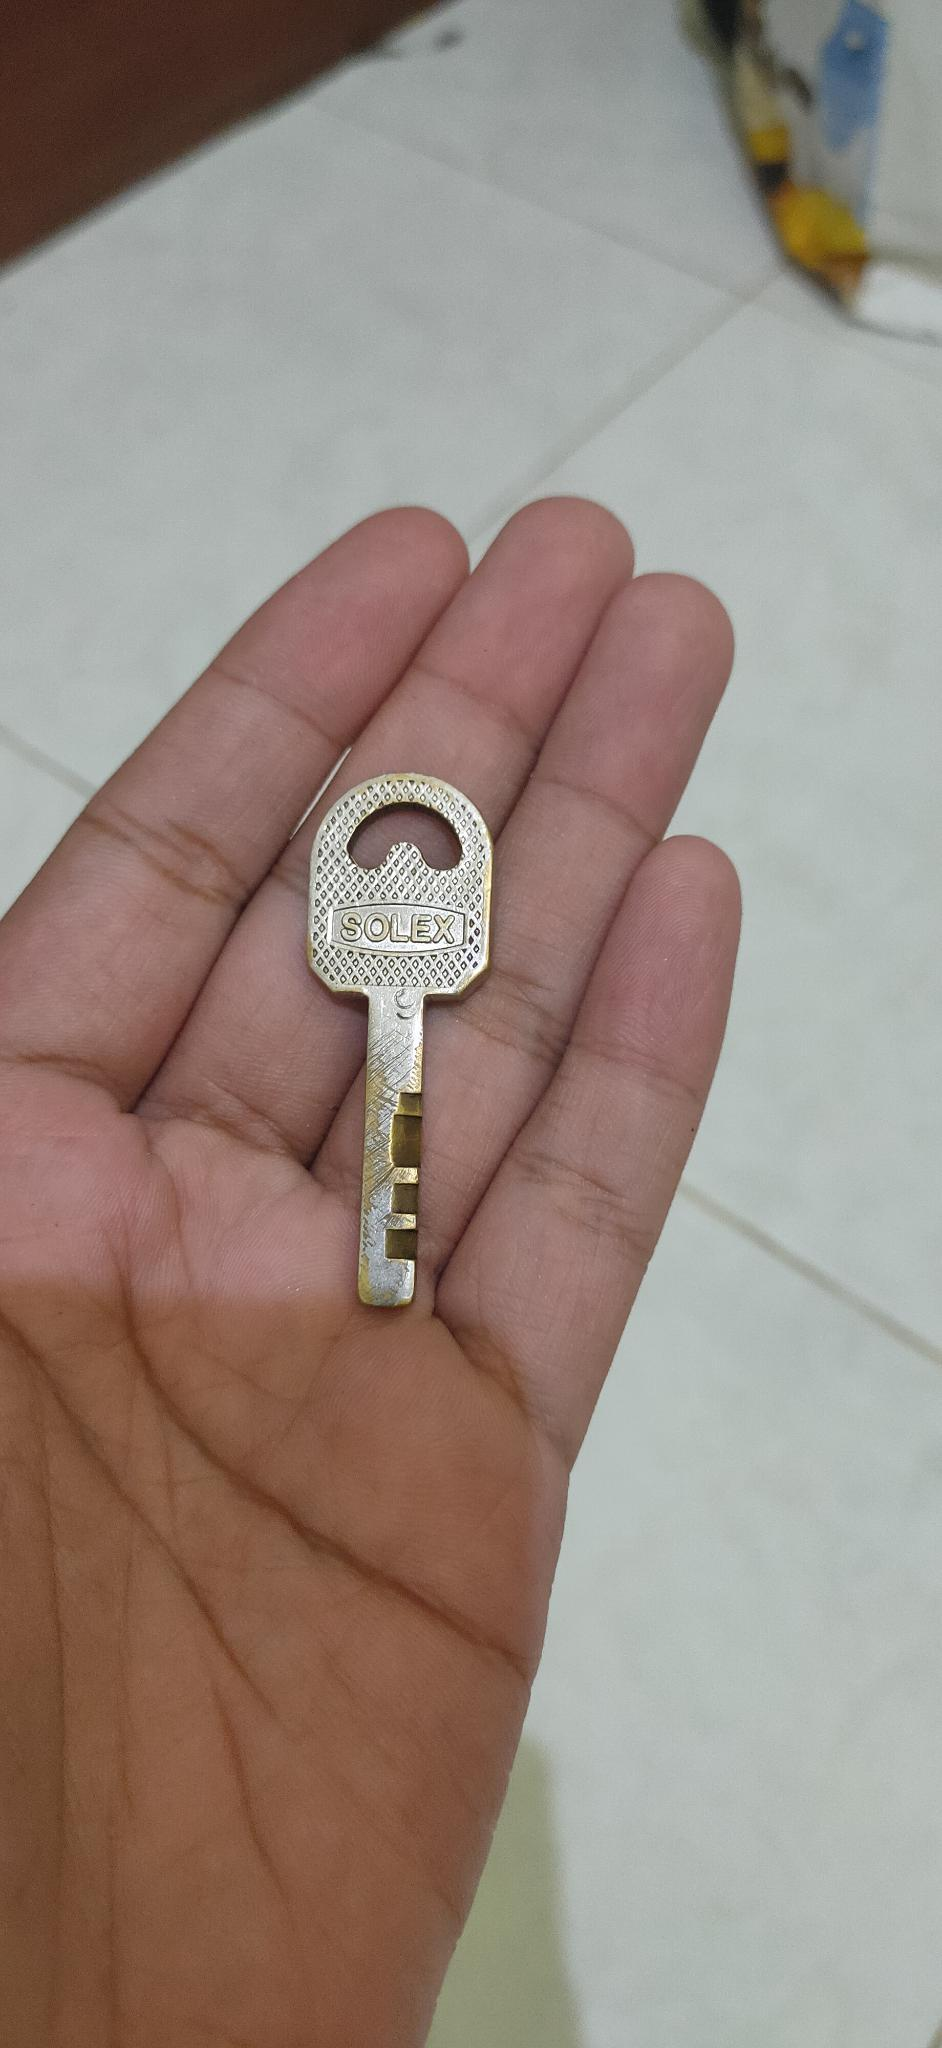keys: (293, 754, 507, 1368)
